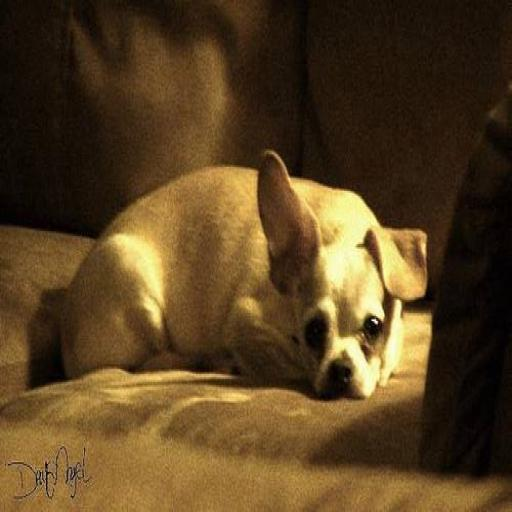dog_face: (246, 163, 428, 405)
